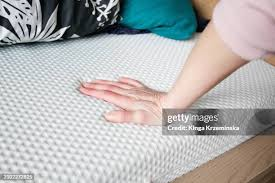bed-matress: (1, 14, 272, 183)
